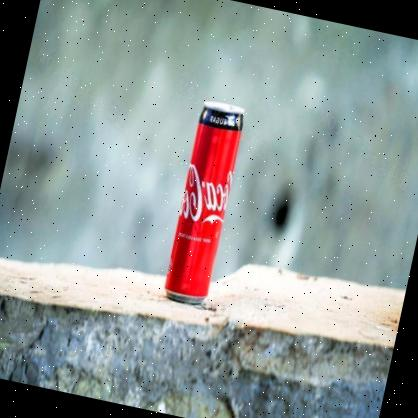can: (157, 96, 250, 310)
